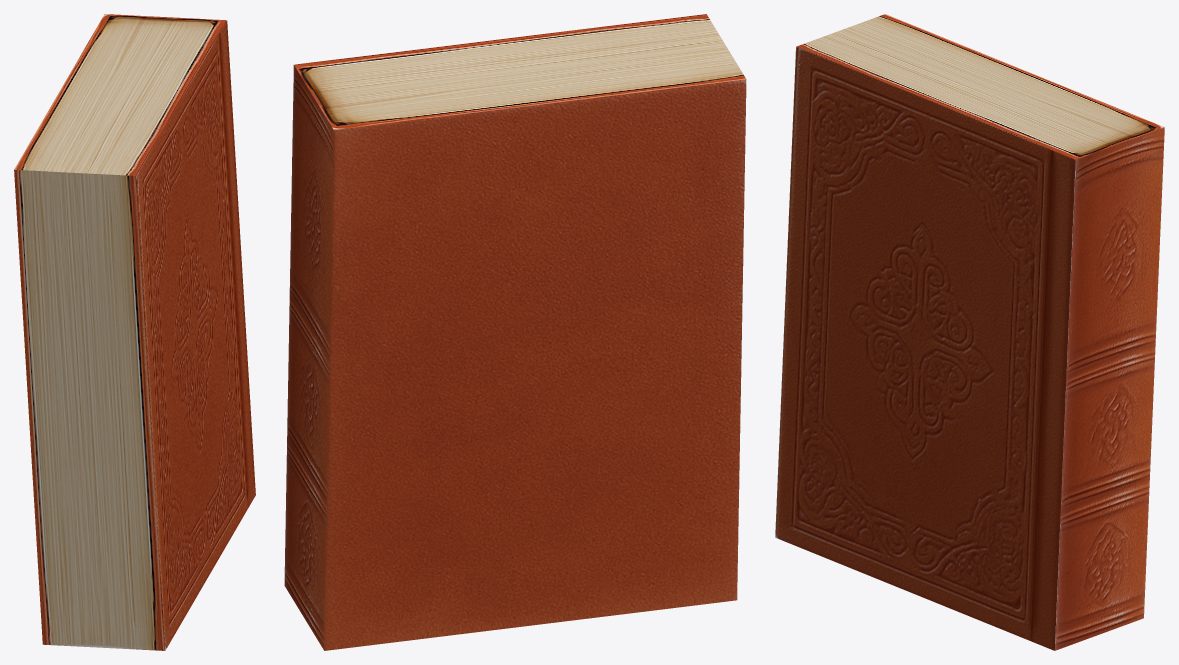
The model's file is BookBOrange.glb.
The picture shows the model from 3 angles, left to right: view 1: azimuth 30°, elevation 25°; view 2: azimuth 150°, elevation 25°; view 3: azimuth 270°, elevation 25°; orthographic projection. The views are drawn at different scales.
Parts seen in each view (by area): view 1: Books1.006; view 2: Books1.006; view 3: Books1.006.
Boxes of the visible parts, box(x1,y1,x2,y2) form: Books1.006: box(14, 14, 255, 650); Books1.006: box(284, 14, 746, 650); Books1.006: box(775, 14, 1164, 650).
Size of the model in its own units: 0.1154 by 0.1624 by 0.1174.
1 material, 1 textured.
